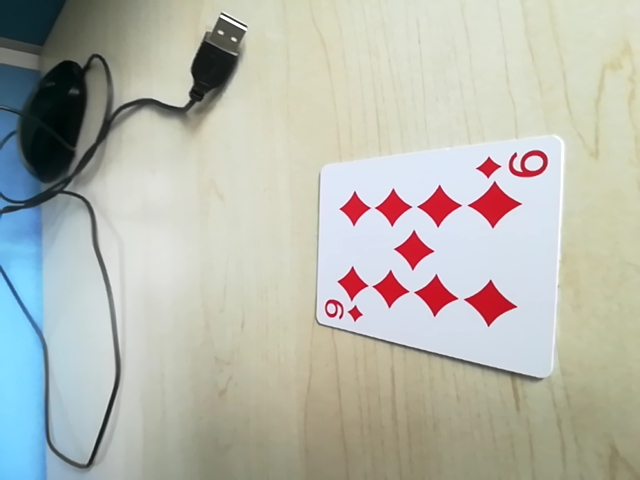fk 9: (475, 143, 548, 185), (316, 297, 368, 328)
